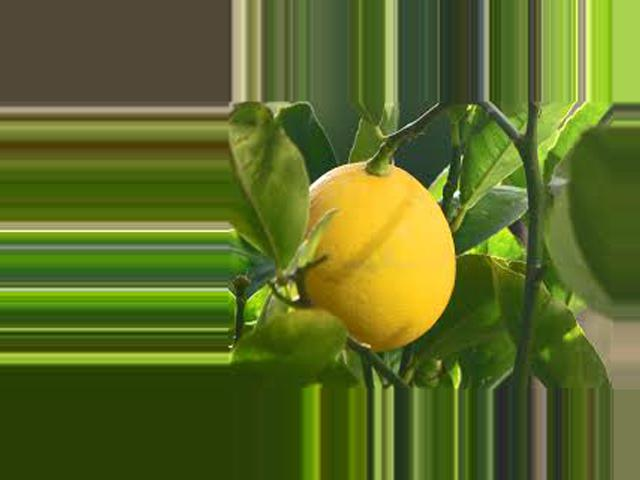lemon: (273, 145, 467, 343)
